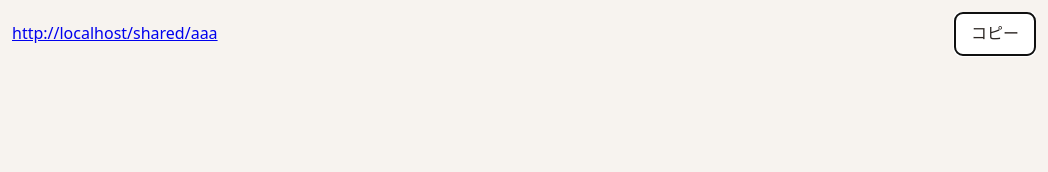
Test: V-20 ShareLinkResult › V-20 結果: リンクとコピー（押すと結果が出る。新しいリンクで消える）。失敗は「再試行」で呼ばれる
This screenshot has width=1048, height=172.
Later steps or results of the test are not shown.
Step 1. Click the button "コピー" → (995, 34), box [954,12,1036,56]
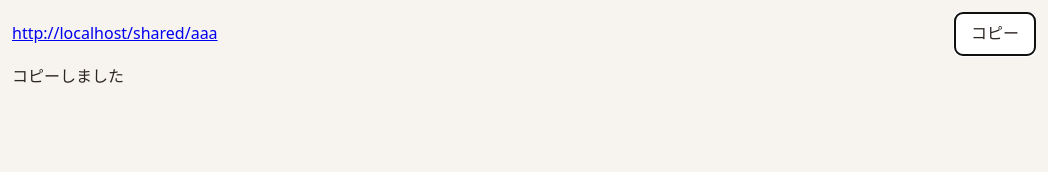
expect the text "コピーしました" is shown: met, box [12,65,124,87]
